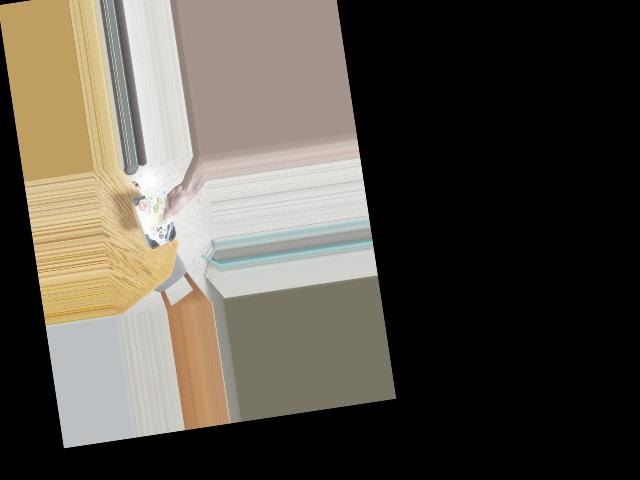cheese: (133, 198, 182, 244)
